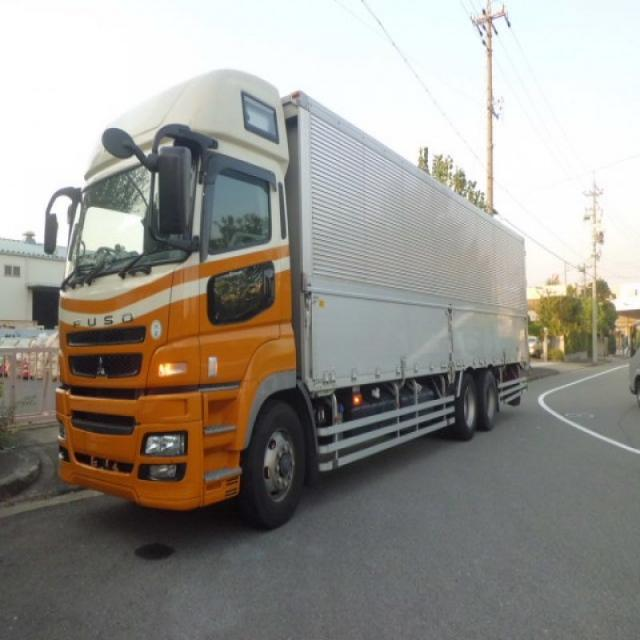Truck: (39, 64, 527, 528)
